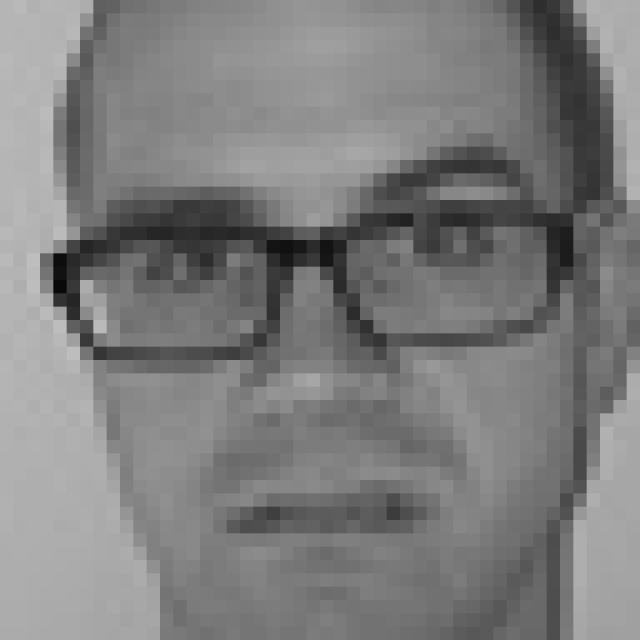disgust: (130, 145, 540, 568)
